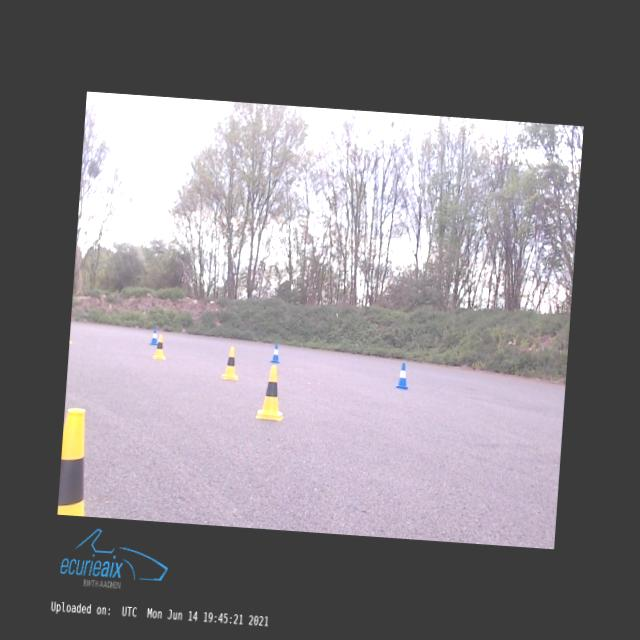blue_cone: (396, 362, 409, 388), (270, 343, 280, 362), (150, 329, 158, 345)
yellow_cone: (57, 407, 91, 515), (256, 364, 286, 420), (221, 346, 240, 380), (152, 334, 166, 360)
